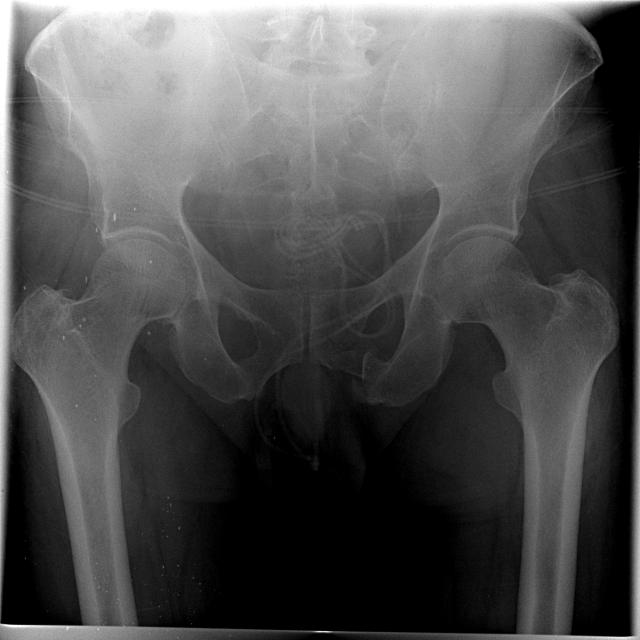normal-left: (438, 236, 620, 634)
normal-right: (11, 239, 187, 627)
